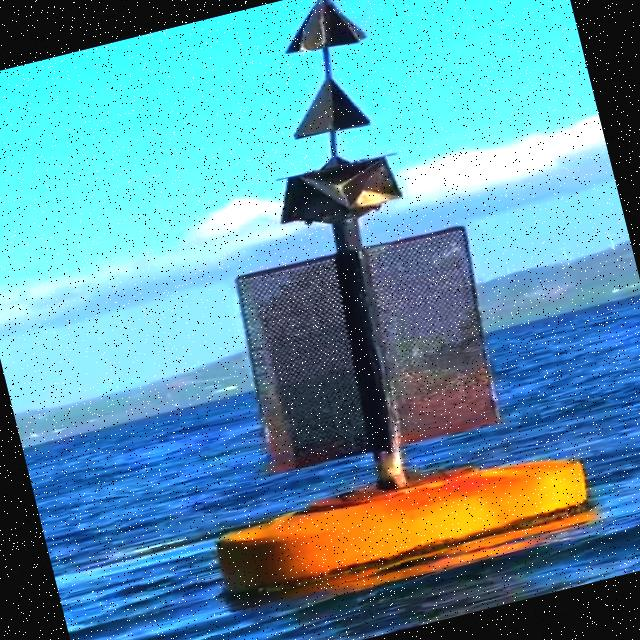marque: (103, 1, 605, 605)
